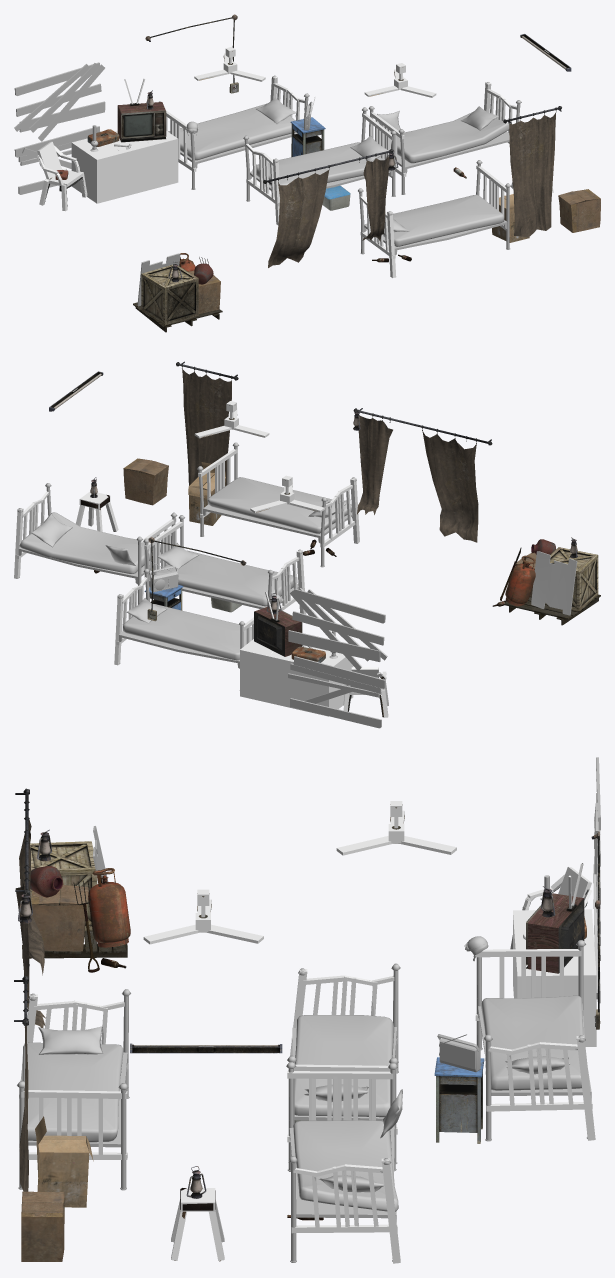
Rendered from Sleeper_A2.fbx.
3 renders of one model, top to bottom at view 1: azimuth 30°, elevation 25°; view 2: azimuth 150°, elevation 25°; view 3: azimuth 270°, elevation 25°, orthographic. The views are drawn at different scales.
Visible parts, largest first — view 1: Mattress_T01 (×3), Double_CheapCurtainSet_T02, Cube (12), Single_LongCurtainSet, DoorPlankSet_T02, MetalBed (×4), Mattress_T02, WoodenCrate_T03, CardboardBox_T02 (×2), RetroTV, BedPillow (×3), SideTable (+5 smaller); view 2: Mattress_T01 (×3), DoorPlankSet_T02, Double_CheapCurtainSet_T02, MetalBed (×4), Cube (12), Single_LongCurtainSet, Mattress_T02, S_WindowPlankSet_T04, CardboardBox_T02, RetroTV, WoodenCrate_T03, BedPillow (×2) (+5 smaller); view 3: Mattress_T01 (×3), MetalBed (×4), Mattress_T02, CardboardBox_T02 (×2), Cube (12), CardboardBox_T01, SideTable, Cube (16) (×4), RetroTV, LPGCylinder_Broken, WoodenCrate_T03, Double_CheapCurtainSet_T02 (+9 smaller).
Boxes of the visible parts, bbox=[...] form: Mattress_T01 (×3): bbox=[168, 103, 504, 246]; Double_CheapCurtainSet_T02: bbox=[263, 149, 393, 267]; Cube (12): bbox=[71, 130, 178, 203]; Single_LongCurtainSet: bbox=[503, 106, 561, 237]; DoorPlankSet_T02: bbox=[14, 62, 105, 194]; MetalBed (×4): bbox=[158, 75, 521, 254]; Mattress_T02: bbox=[391, 111, 509, 163]; WoodenCrate_T03: bbox=[141, 264, 198, 325]; CardboardBox_T02 (×2): bbox=[188, 189, 600, 313]; RetroTV: bbox=[117, 79, 166, 142]; BedPillow (×3): bbox=[256, 97, 498, 161]; SideTable: bbox=[290, 117, 325, 157]; Mattress_T01 (×3): bbox=[123, 477, 351, 660]; DoorPlankSet_T02: bbox=[288, 588, 387, 728]; Double_CheapCurtainSet_T02: bbox=[353, 408, 492, 542]; MetalBed (×4): bbox=[17, 442, 356, 690]; Cube (12): bbox=[240, 639, 353, 716]; Single_LongCurtainSet: bbox=[176, 361, 238, 485]; Mattress_T02: bbox=[19, 512, 160, 573]; S_WindowPlankSet_T04: bbox=[531, 551, 577, 615]; CardboardBox_T02: bbox=[123, 458, 168, 505]; RetroTV: bbox=[254, 598, 302, 656]; WoodenCrate_T03: bbox=[545, 547, 598, 610]; BedPillow (×2): bbox=[31, 513, 198, 568]; Mattress_T01 (×3): bbox=[22, 995, 583, 1142]; MetalBed (×4): bbox=[17, 940, 591, 1262]; Mattress_T02: bbox=[293, 1120, 398, 1211]; CardboardBox_T02 (×2): bbox=[21, 885, 88, 1261]; Cube (12): bbox=[513, 909, 596, 1046]; CardboardBox_T01: bbox=[35, 1116, 93, 1207]; SideTable: bbox=[434, 1057, 484, 1143]; Cube (16) (×4): bbox=[21, 949, 581, 1098]; RetroTV: bbox=[526, 863, 584, 973]; LPGCylinder_Broken: bbox=[88, 868, 130, 947]; WoodenCrate_T03: bbox=[29, 841, 97, 930]; Double_CheapCurtainSet_T02: bbox=[15, 788, 45, 1027].
Bounding box in the file's own units: 9.37 × 3.18 × 6.59.
